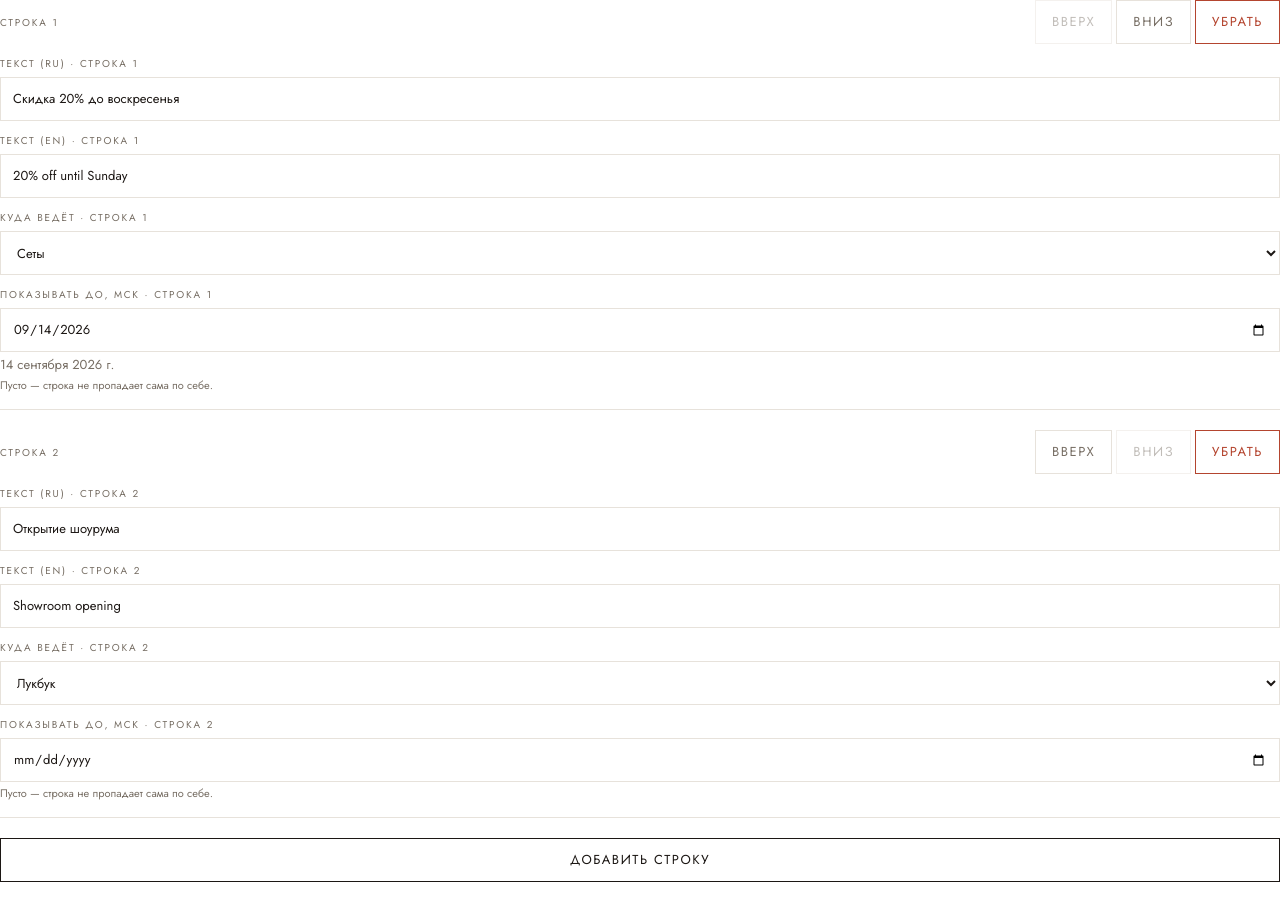
«Куда ведёт» — выбор вместо текстового поля (дефект №1) › «Своя ссылка» с внешним адресом физически не даёт сохранить и показывает русский текст у поля
Select "Своя ссылка" in the dropdown labelled "Куда ведёт · строка 1" at point(640, 253), box [0,231,1279,275]
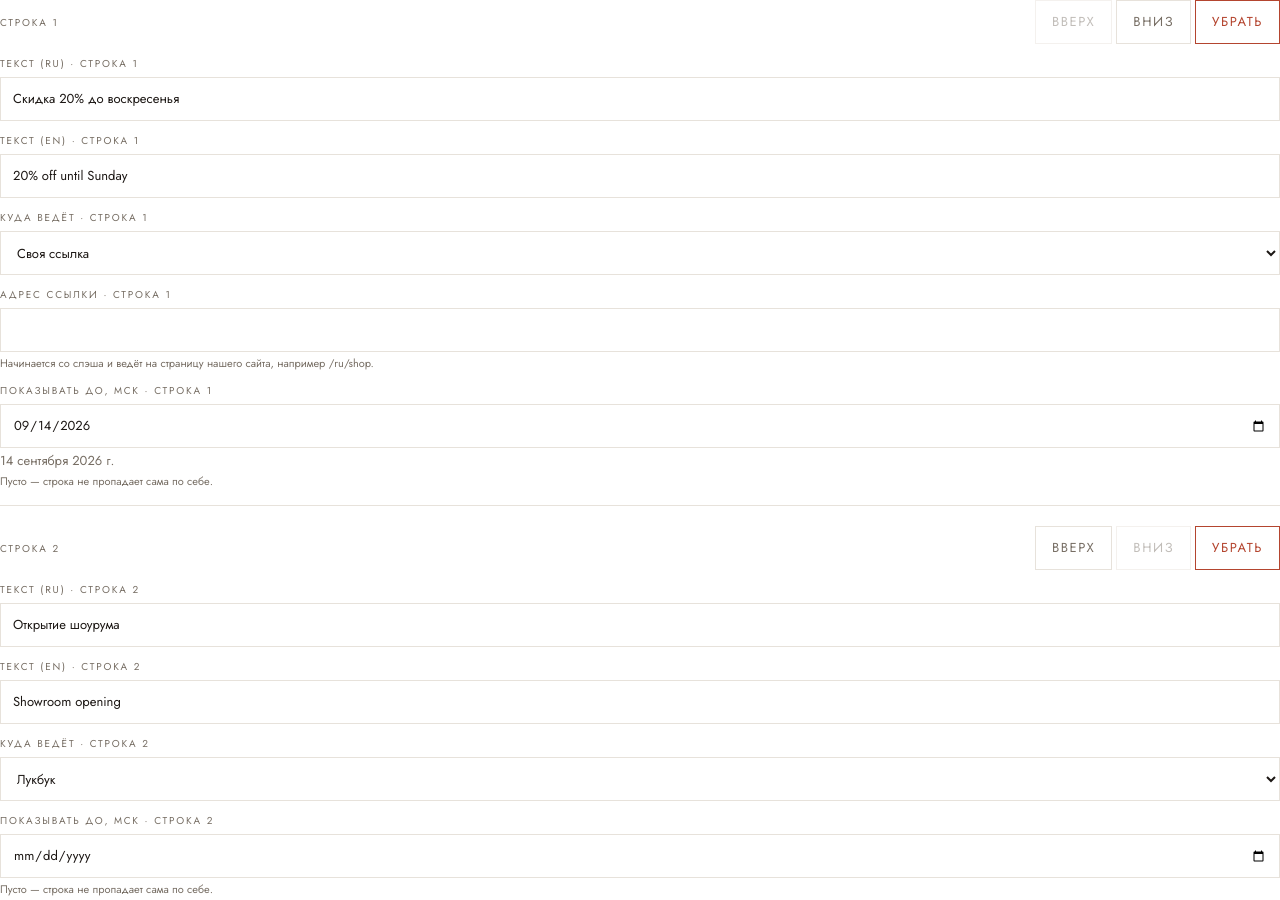
Type "https://evil.example/phish" into the field labelled "Адрес ссылки · строка 1" at point(640, 330), box [0,308,1279,352]
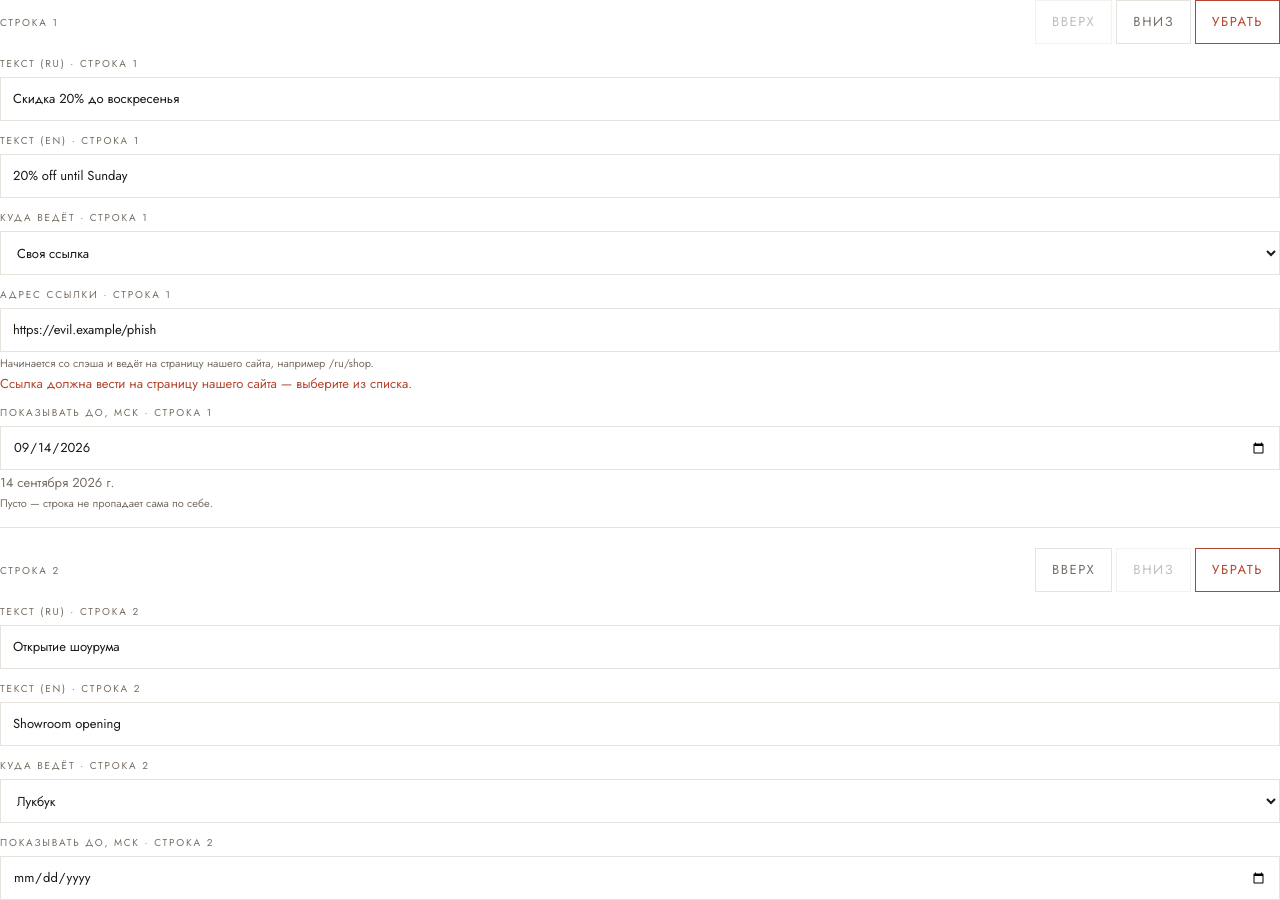
expect the message reads "Ссылка должна вести на страницу нашего сайта — выберите из списка.": met, box [0,374,412,393]
